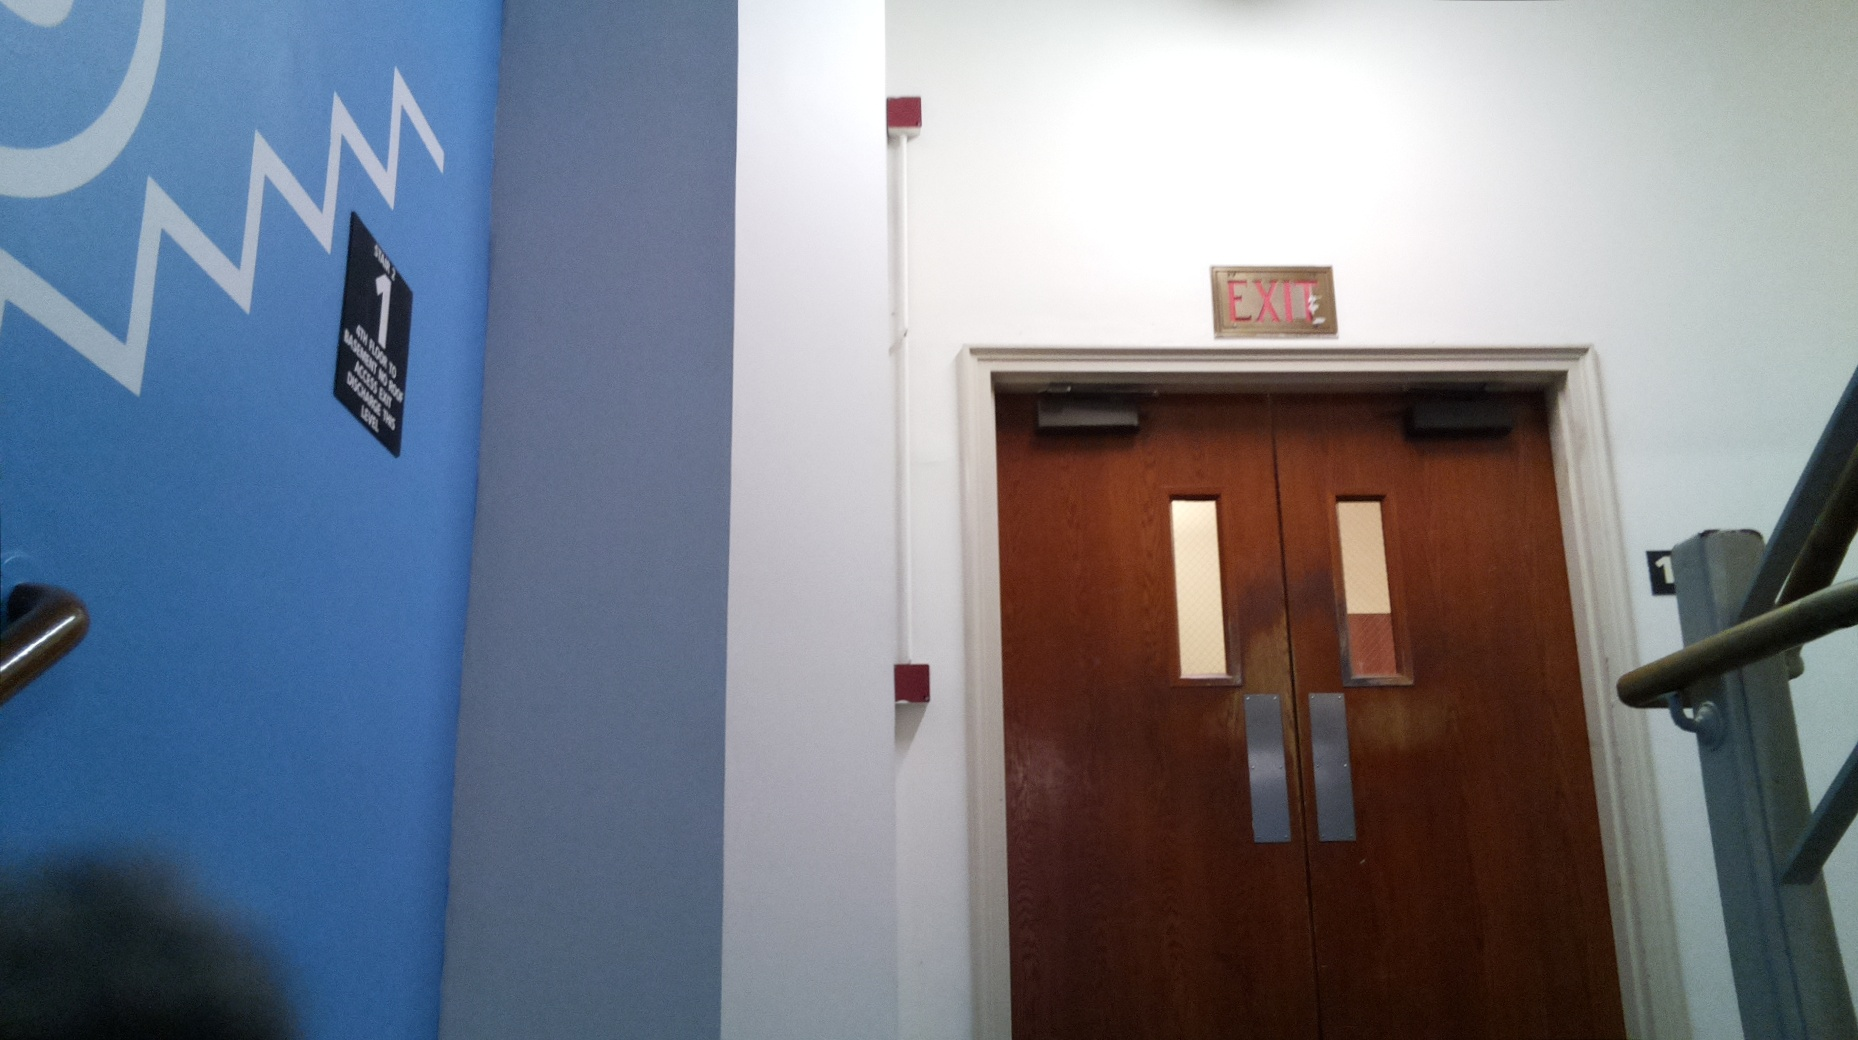exit sign: (1205, 256, 1341, 343)
